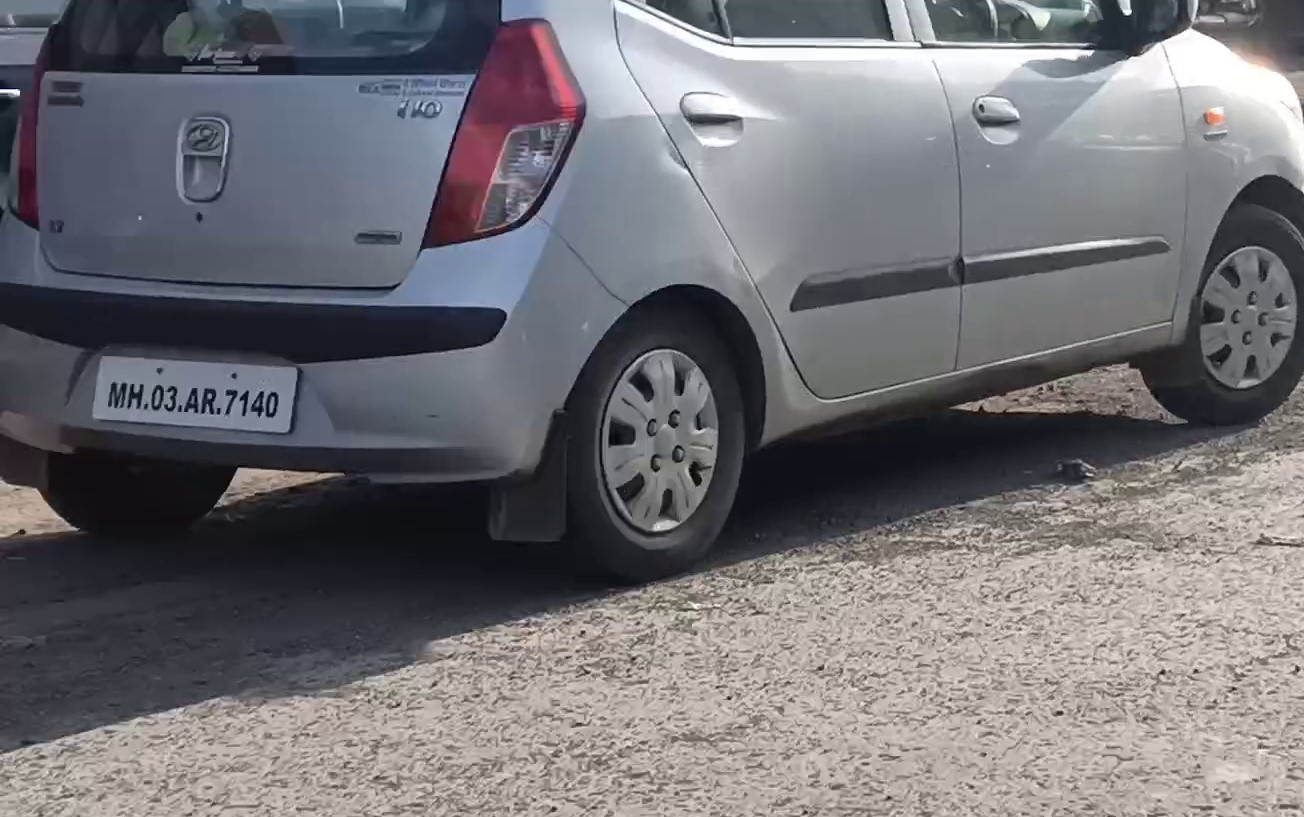MH03AR7140: (88, 354, 300, 432)
